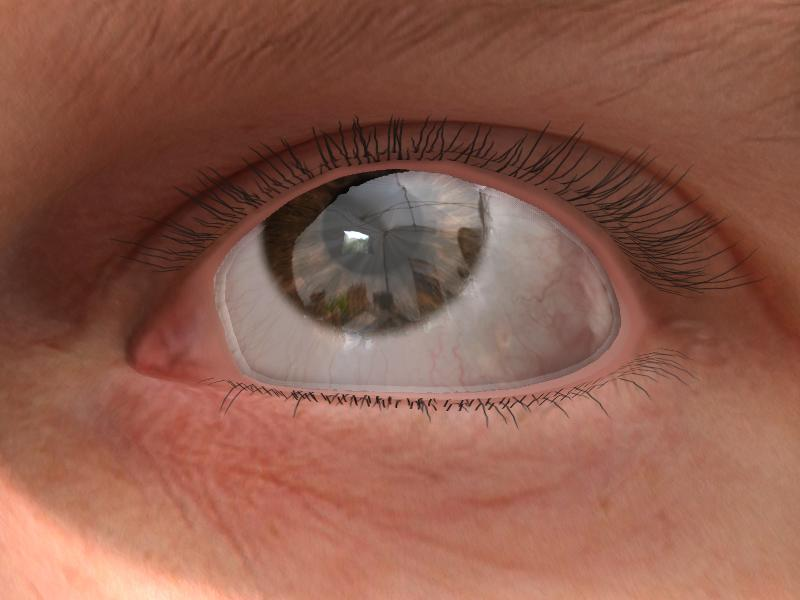eye: (261, 168, 489, 331)
